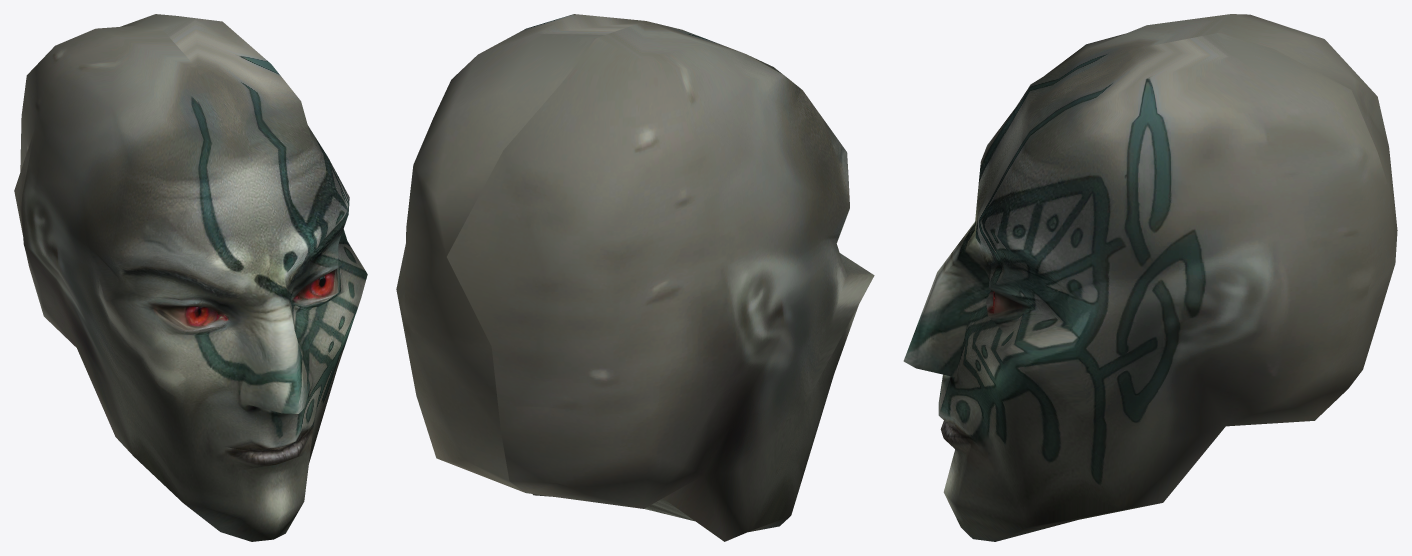
The model's file is b_n_dark elf_m_head_12.glb.
3 renders of one model, left to right at view 1: azimuth 30°, elevation 25°; view 2: azimuth 150°, elevation 25°; view 3: azimuth 270°, elevation 25°, orthographic. The views are drawn at different scales.
Parts seen in each view (by area): view 1: Tri B_N_Dark Elf_M_Head_11; view 2: Tri B_N_Dark Elf_M_Head_11; view 3: Tri B_N_Dark Elf_M_Head_11.
Boxes of the visible parts, x1=… form: Tri B_N_Dark Elf_M_Head_11: x1=14, y1=14, x2=367, y2=541; Tri B_N_Dark Elf_M_Head_11: x1=396, y1=14, x2=874, y2=541; Tri B_N_Dark Elf_M_Head_11: x1=903, y1=14, x2=1397, y2=541.
Bounding box in the file's own units: 0.093 × 0.1577 × 0.1421.
1 material, 1 textured.
